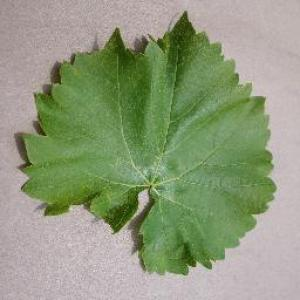Folha: (15, 9, 277, 276)
